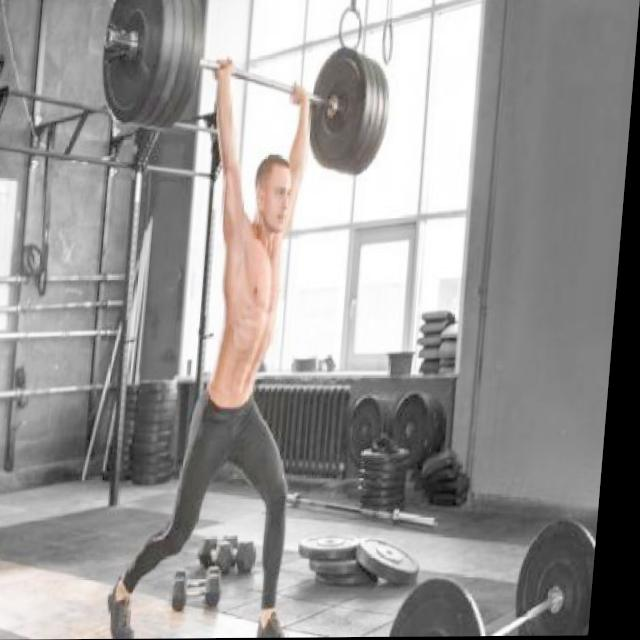barbell: (98, 1, 174, 134)
